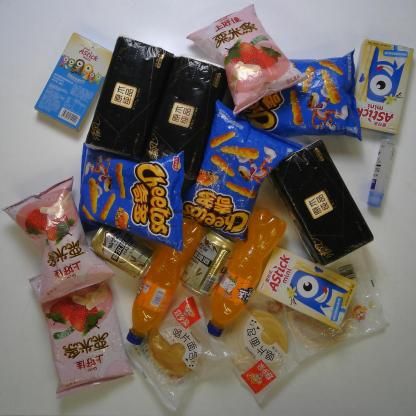Alcohol: (178, 226, 239, 300), (90, 223, 156, 281)
Dessert: (123, 292, 240, 413), (280, 248, 392, 364), (217, 290, 317, 406), (254, 246, 357, 332), (33, 32, 114, 132), (352, 38, 414, 136)
Drink: (206, 207, 288, 339), (124, 217, 206, 346)
Puffed Food: (182, 97, 304, 242), (0, 174, 117, 306), (186, 3, 308, 118), (27, 272, 136, 400), (77, 141, 188, 252), (240, 46, 362, 142)
Stationery: (366, 137, 398, 209)
Tissue: (265, 139, 374, 269), (84, 34, 176, 164), (140, 52, 228, 183)
